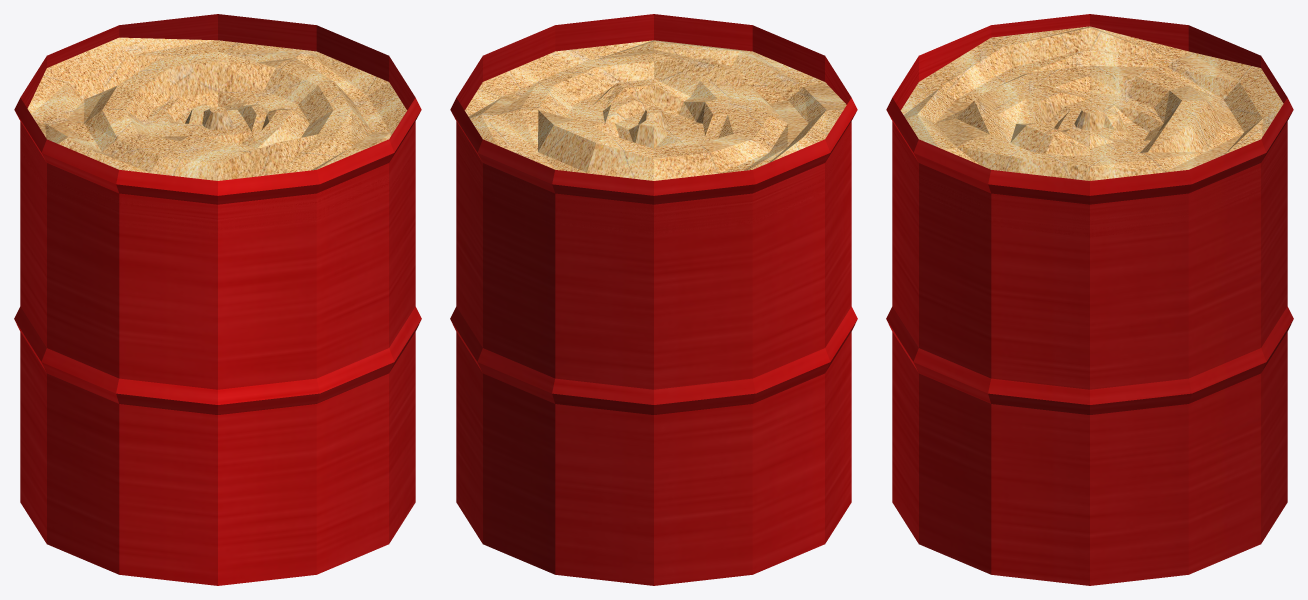
File: fire_sand.fbx
3 views of the same model, side by side, from view 1: azimuth 30°, elevation 25°; view 2: azimuth 150°, elevation 25°; view 3: azimuth 270°, elevation 25° (orthographic).
Visible parts, largest first — view 1: Cylinder.001; view 2: Cylinder.001; view 3: Cylinder.001.
Boxes of the visible parts, x1=… form: Cylinder.001: x1=14, y1=14, x2=421, y2=585; Cylinder.001: x1=450, y1=14, x2=857, y2=585; Cylinder.001: x1=886, y1=14, x2=1293, y2=585.
Size of the model in its own units: 61.91 by 67.84 by 61.91.
2 materials, 2 textured.
